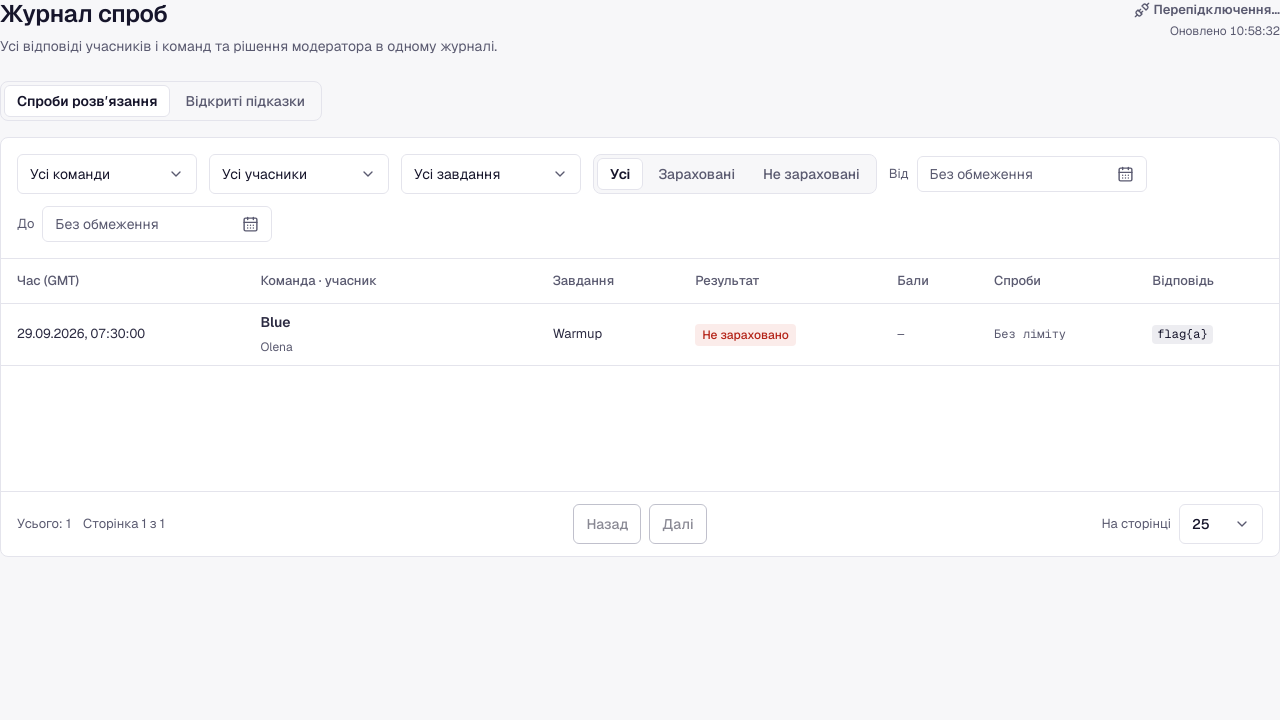
Scenario: Журнал спроб › offers «Скасувати» next to «Зберегти рішення», and it closes the attempt
Expected: the text "flag{a}" is shown, [1152,326,1213,344]
Press Enter in the row named "Відкрити спробу: Warmup, Blue", box [1,304,1279,366]
(page scrolled)
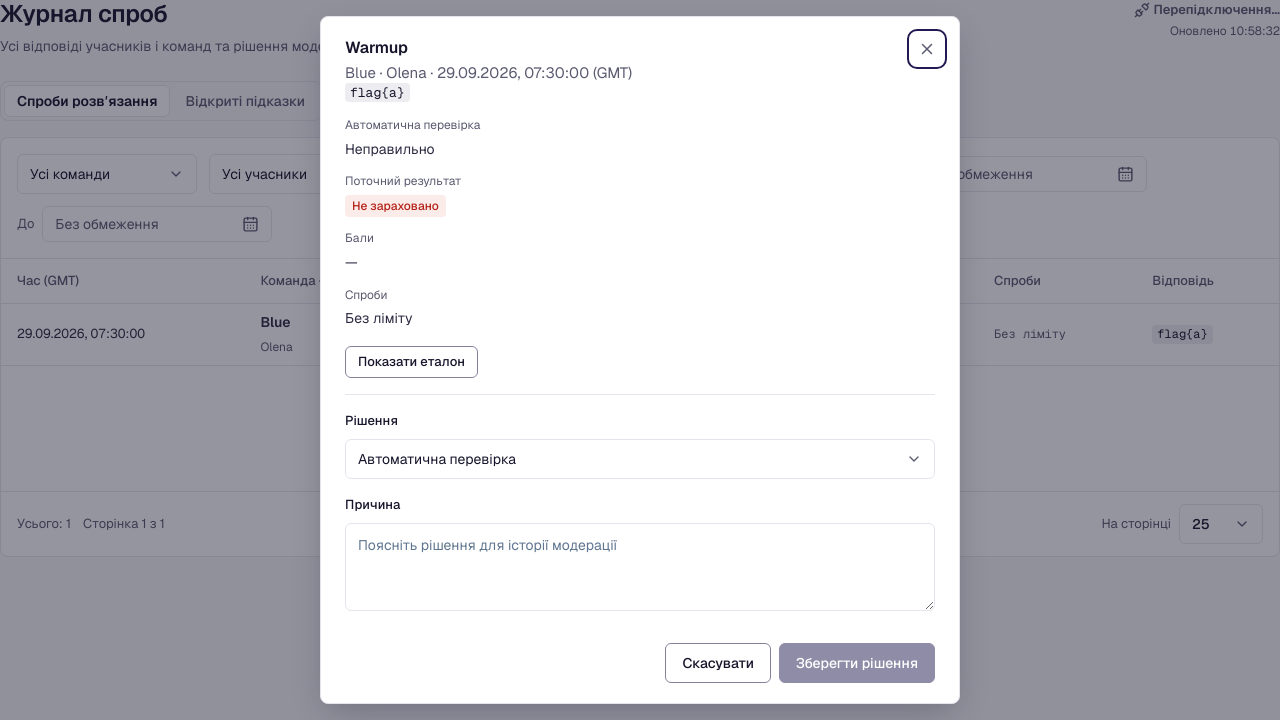
Click the button "Скасувати" at (718, 663), box [665,643,771,683]
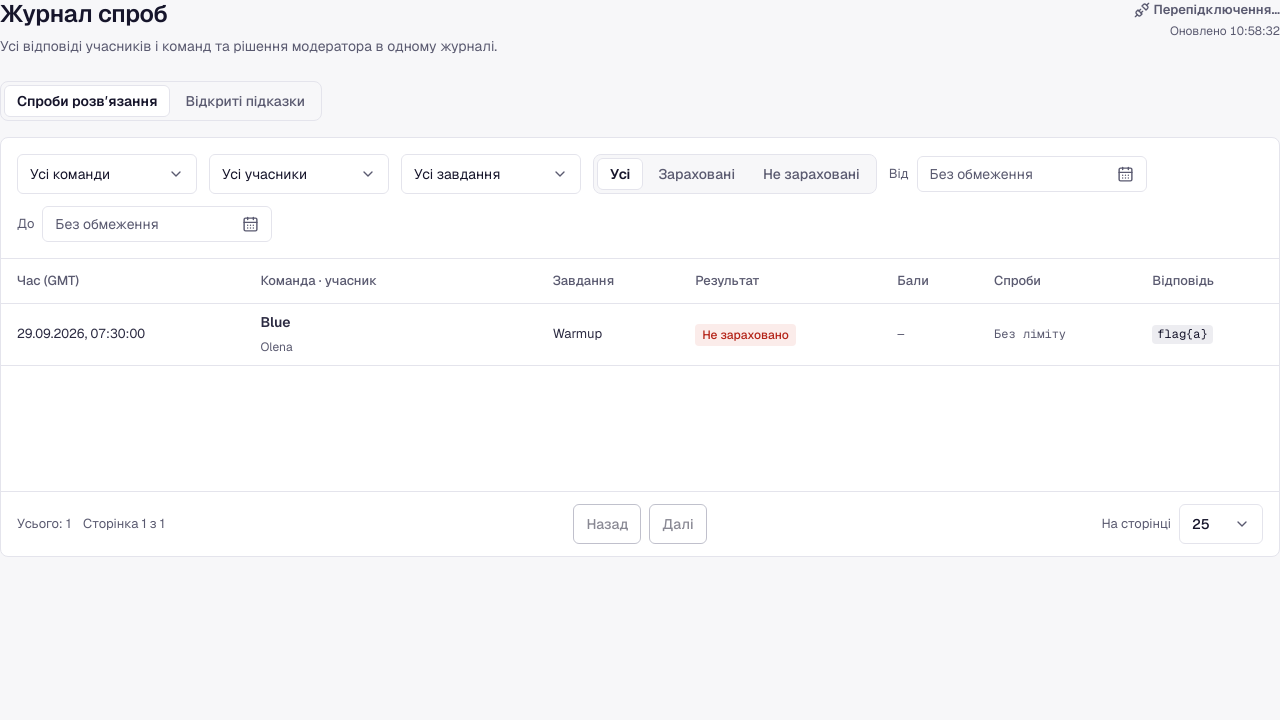
Now the button "Зберегти рішення" is gone
